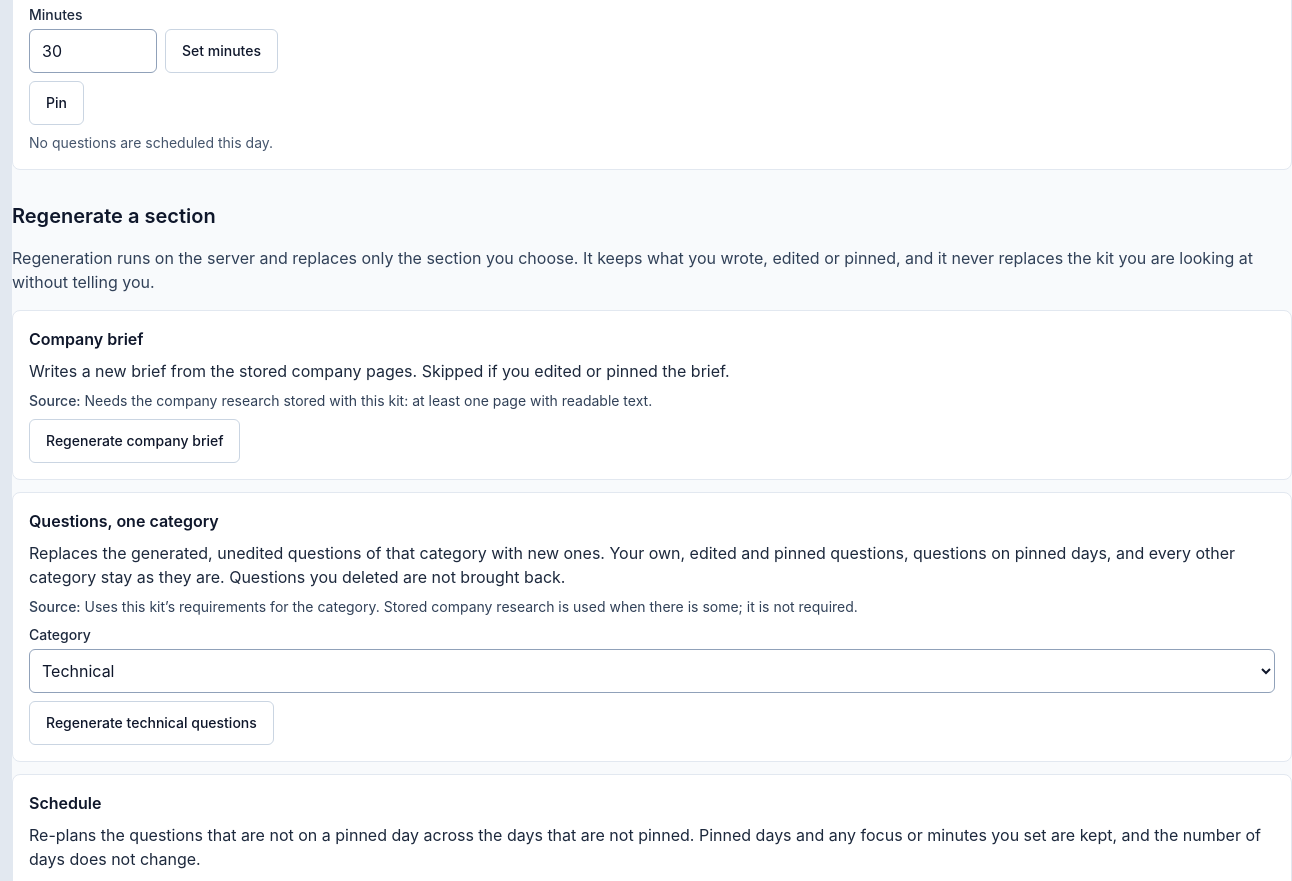
starting a regeneration › starts the brief when research is stored
The width and height of the screenshot is (1292, 881).
(page scrolled)
Step 1. Click the button "Regenerate company brief" → click(135, 441), box [29, 419, 240, 463]
(page scrolled)
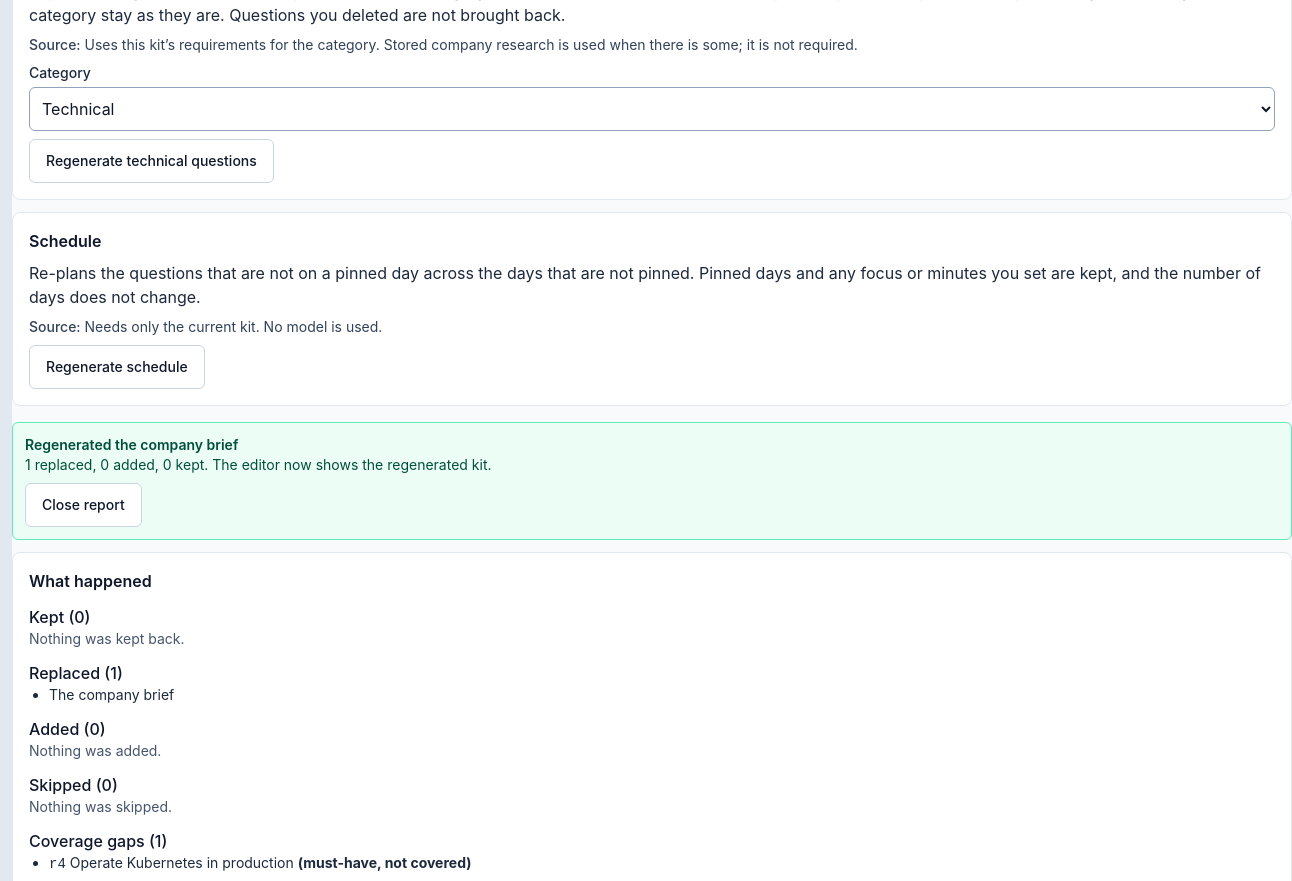
Now the text "Regenerated the company brief" is shown, box [25, 436, 238, 453]
